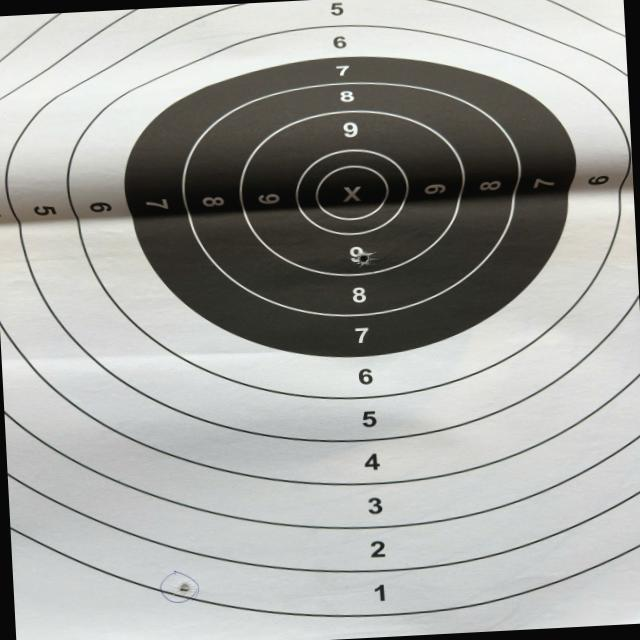bullet: (178, 583, 193, 595), (361, 253, 368, 265)
target: (0, 0, 640, 640)
